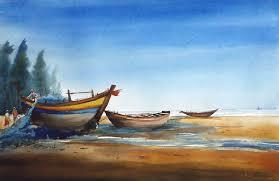fishing boat: (12, 82, 120, 134), (106, 100, 172, 131), (178, 105, 222, 118)
